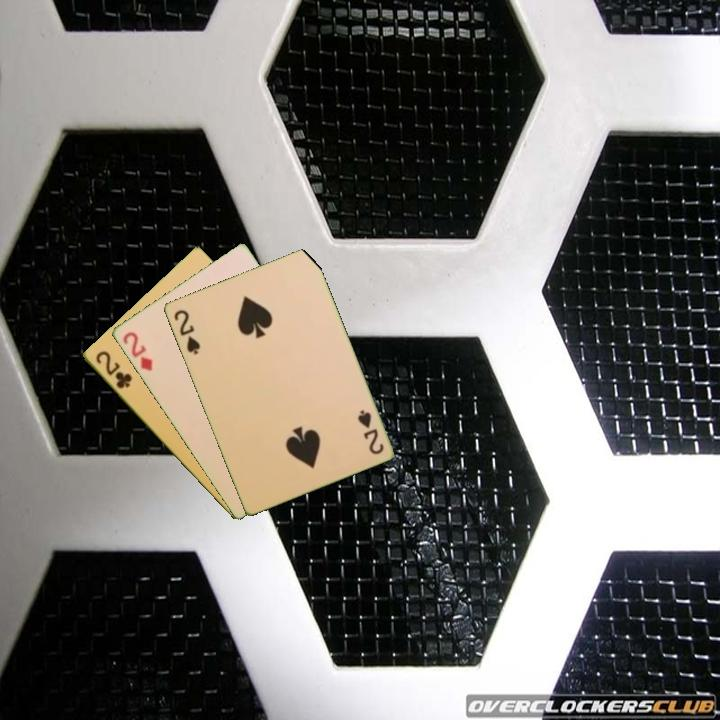2c: (91, 347, 135, 392)
2d: (119, 328, 155, 374)
2s: (170, 306, 203, 358), (353, 406, 386, 457)
